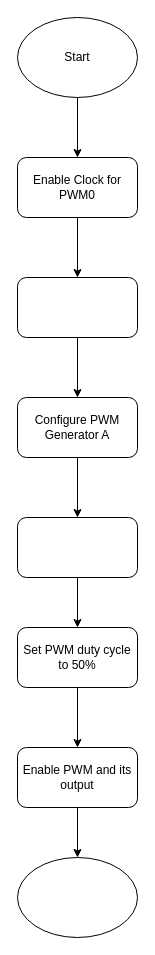
Some shapes in this 155 by 955 pixel diagram are drawn without their labels. Here are the shapes that lost their labels. From the top down, the centre of each, then its label:
(x=77, y=307): Disable PWM
(x=77, y=547): Set PWM frequency to 10 kHz
(x=77, y=897): Stop
